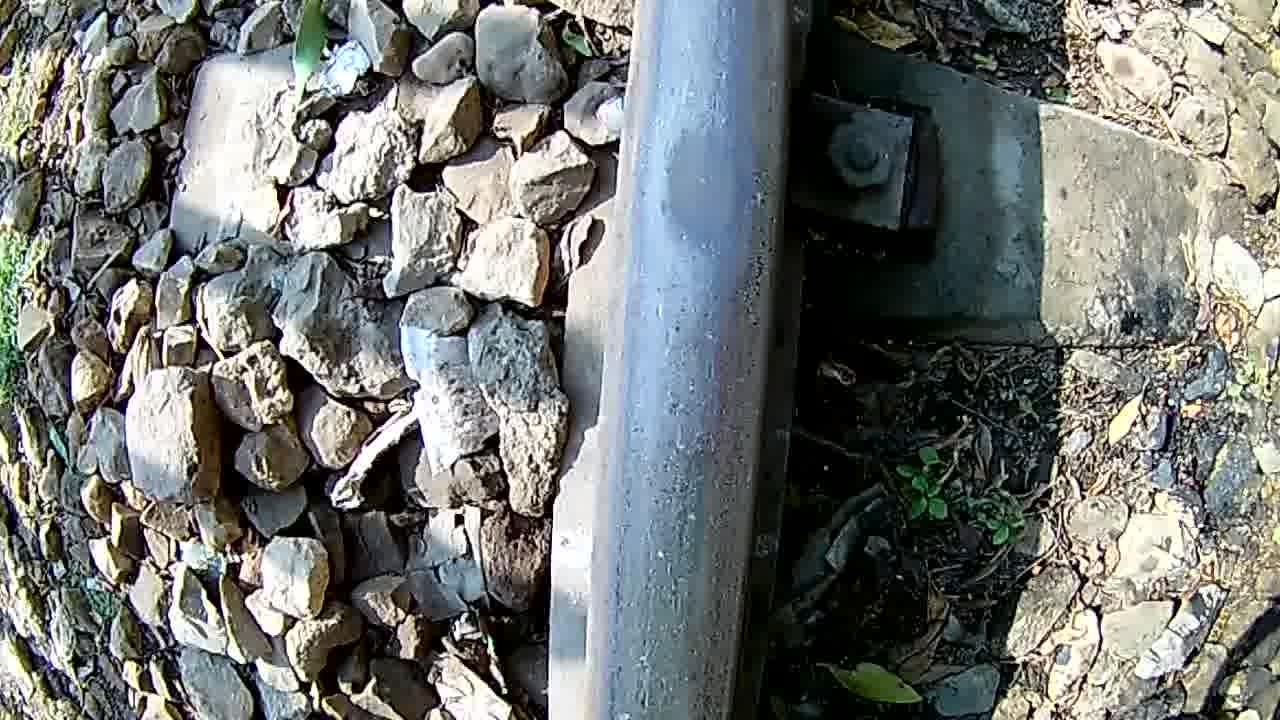bolt_missing: (620, 0, 789, 391)
